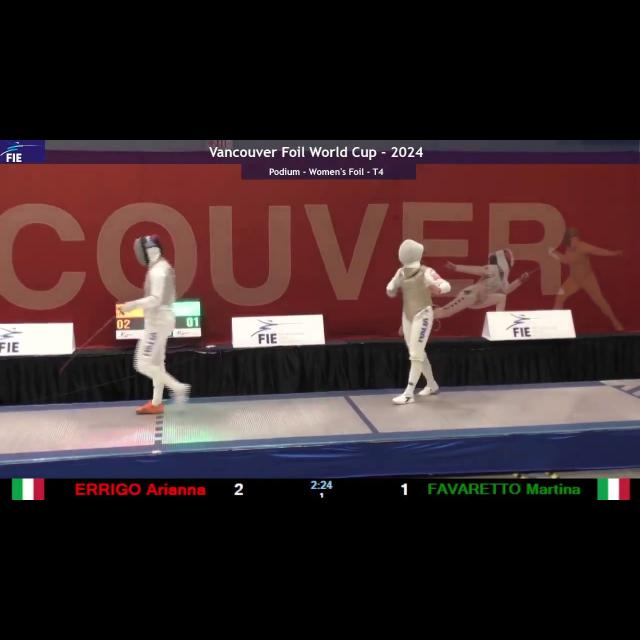blade: (56, 305, 128, 379)
